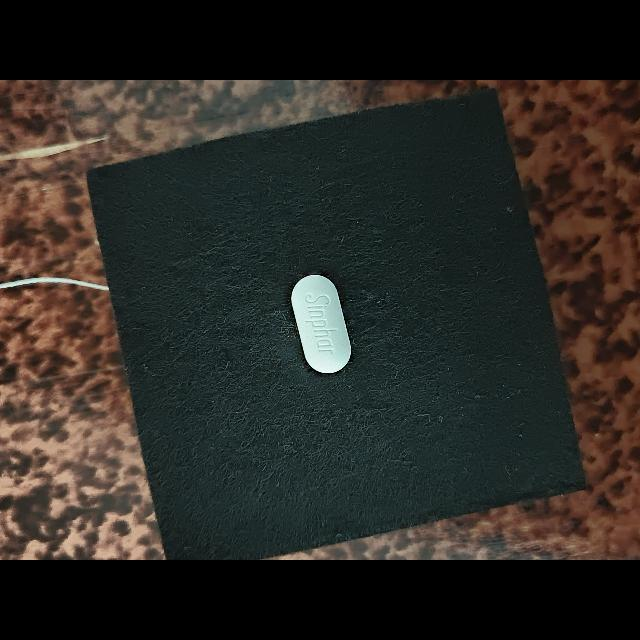Intact Pill: (291, 274, 351, 374)
